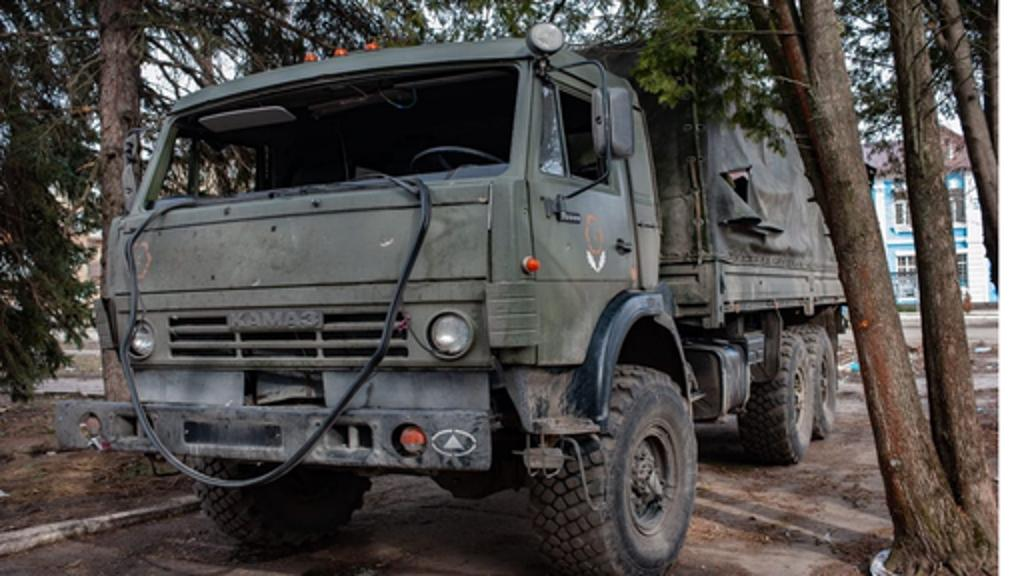TRUCK: (82, 20, 844, 572)
